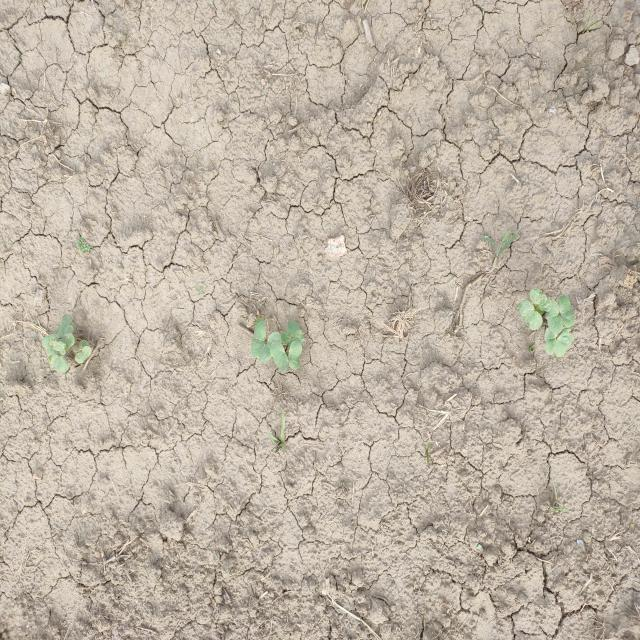seedling_s2: (518, 300, 543, 331), (259, 332, 282, 363), (270, 339, 289, 373), (251, 320, 266, 358), (546, 300, 563, 333), (529, 288, 552, 312), (555, 328, 574, 357), (558, 295, 574, 328), (288, 341, 302, 369), (287, 321, 304, 344), (48, 355, 68, 373), (545, 328, 557, 356), (41, 333, 59, 350), (56, 315, 73, 333), (75, 346, 92, 363), (59, 334, 75, 351), (50, 340, 66, 355), (57, 325, 74, 338), (73, 339, 89, 352), (281, 332, 293, 349)
